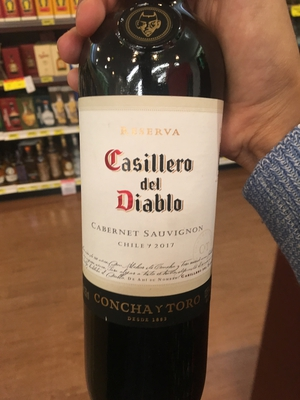casillero del diablo cabernet sauvignon: (75, 16, 230, 400)
